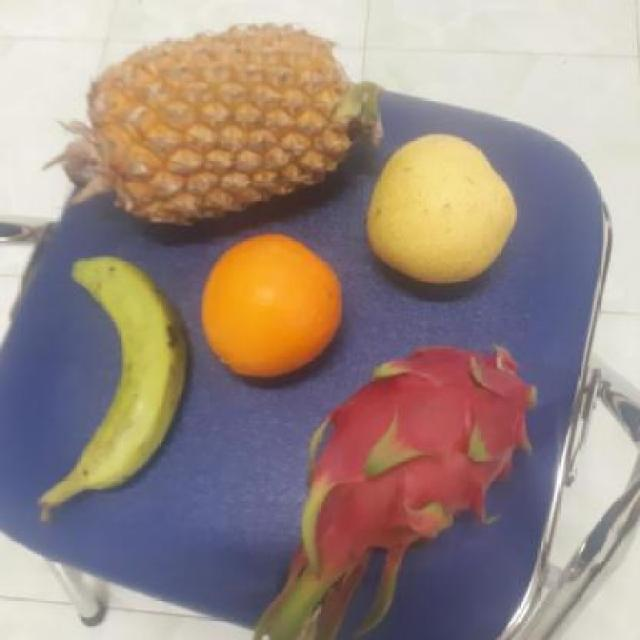banana: (59, 258, 190, 498)
dragon fruit: (292, 344, 546, 570)
guava: (364, 137, 522, 285)
pear: (364, 136, 524, 290), (195, 235, 348, 378)
pineapple: (79, 24, 373, 228)
